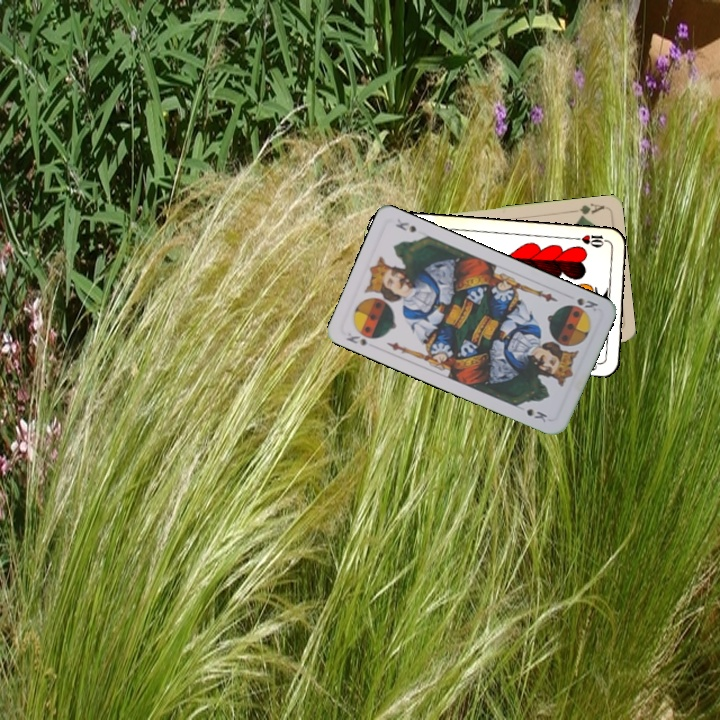GA: (566, 199, 607, 221)
H10: (571, 231, 611, 250)
SK: (342, 328, 371, 348), (573, 294, 601, 314)
